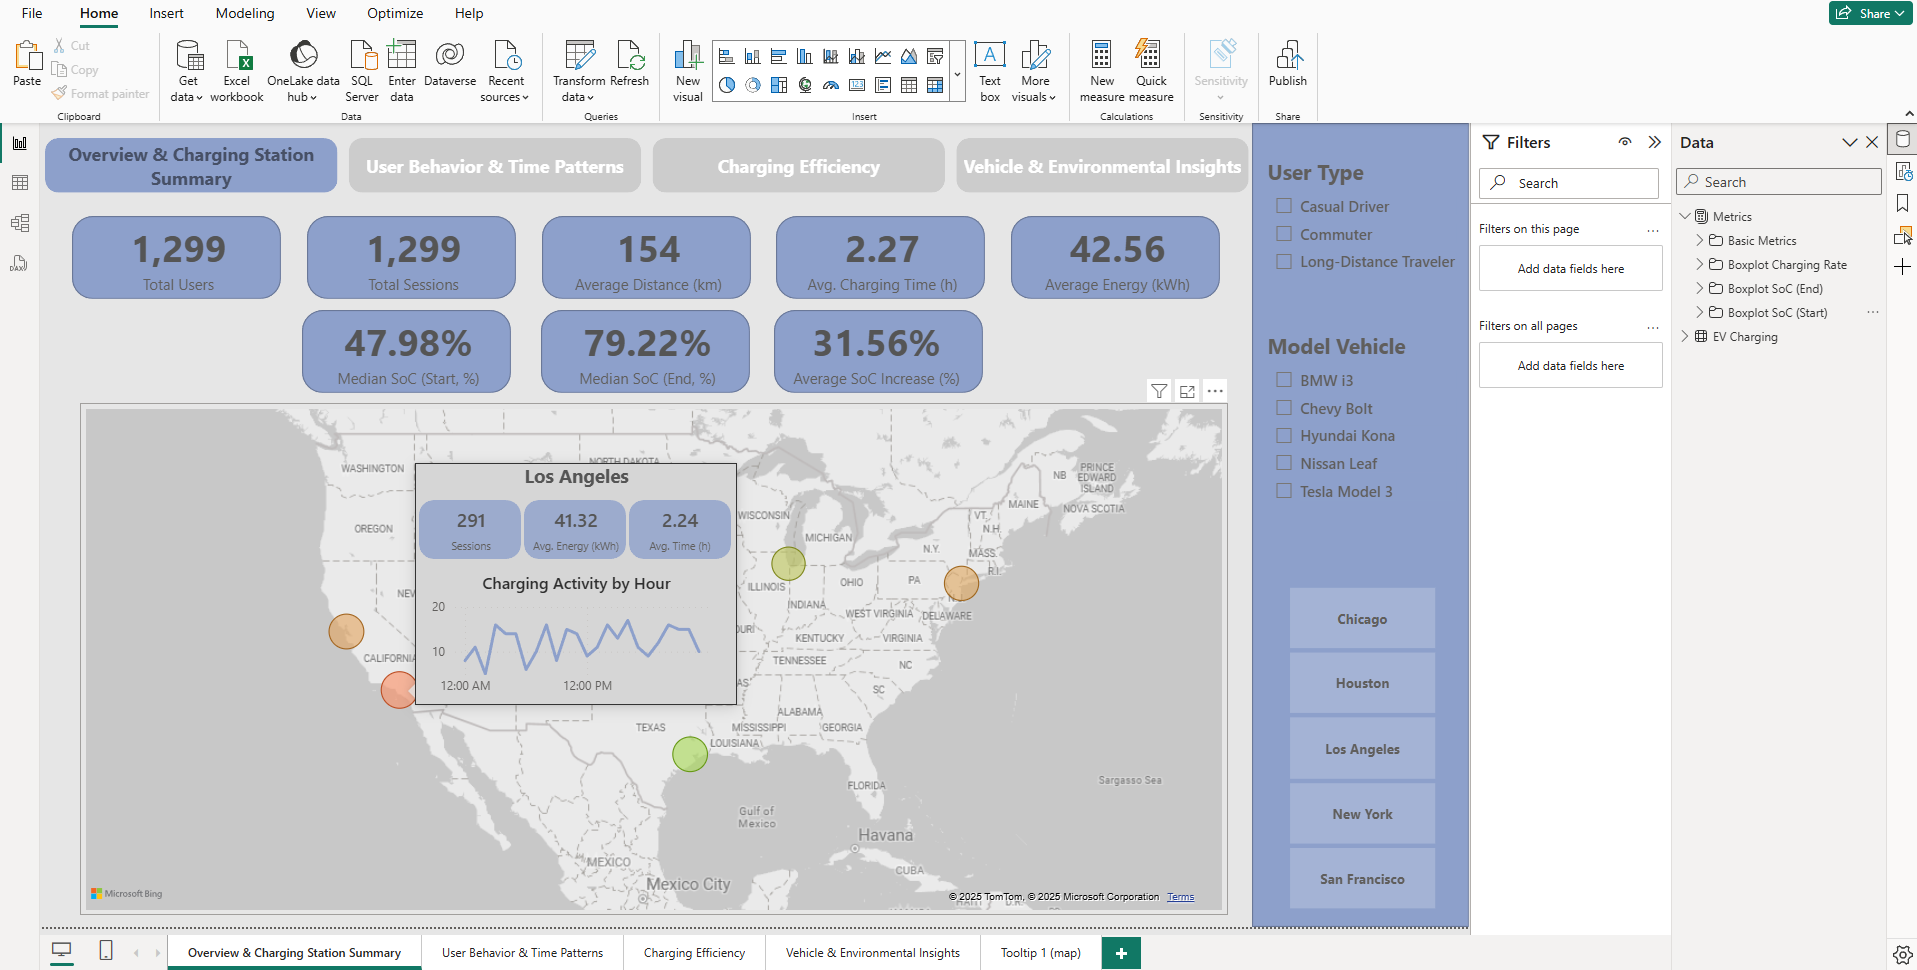

Layout of this report page (visuals, bound fields, positions):
{"tool":"powerbi","page":{"name":"Overview & Charging Station Summary","canvas":[1280,720],"ordinal":0},"visuals":[{"type":"group","id":"g1","title":"Total Users KPI","box":[28.7,83.3,187.2,74.3],"z":0,"group":"g2"},{"type":"shape","box":[28.7,83.3,187.2,74.3],"z":0,"group":"g1"},{"type":"shape","box":[239,83.3,187.2,74.3],"z":0,"group":"g3"},{"type":"shape","box":[449.2,83.3,187.2,74.3],"z":0,"group":"g4"},{"type":"shape","box":[659.5,83.3,187.2,74.3],"z":0,"group":"g6"},{"type":"shape","box":[869.7,83.3,187.2,74.3],"z":0,"group":"g8"},{"type":"shape","box":[657.4,167.6,187.2,74.3],"z":0,"group":"g10"},{"type":"shape","box":[234.6,167.7,187.2,74.3],"z":0,"group":"g7"},{"type":"shape","box":[448.8,167.7,187.2,74.3],"z":0,"group":"g9"},{"type":"map","title":"Page 1 Charging Map","fields":{"Y":["EV Charging.City Latitude"],"X":["EV Charging.City Longitude"],"Size":["Metrics.Sessions Count"]},"box":[35.8,250.7,1028.1,458.5],"z":0},{"type":"group","id":"g2","title":"Page 1 KPI (User Behavior))","box":[28.7,83.3,1028.1,74.3],"z":1000},{"type":"card","fields":{"Values":["EV charging patterns.Users Count"]},"box":[40.3,83.3,167.5,74.3],"z":1000,"group":"g1"},{"type":"group","id":"g3","title":"Total Sessions KPI","box":[239,83.3,187.2,74.3],"z":1000,"group":"g2"},{"type":"card","fields":{"Values":["Metrics.Sessions Count"]},"box":[250.6,83.3,167.5,74.3],"z":1000,"group":"g3"},{"type":"card","fields":{"Values":["Metrics.Avg Distance Driven"]},"box":[460.8,83.3,167.5,74.3],"z":1000,"group":"g4"},{"type":"card","fields":{"Values":["Metrics.Average Charging Duration"]},"box":[671.1,83.3,167.5,74.3],"z":1000,"group":"g6"},{"type":"card","fields":{"Values":["Metrics.Avg Energy"]},"box":[881.3,83.3,167.5,74.3],"z":1000,"group":"g8"},{"type":"card","fields":{"Values":["Metrics.Avg SoC Difference"]},"box":[665.1,167.6,167.5,74.3],"z":1000,"group":"g10"},{"type":"card","fields":{"Values":["Metrics.Median Starting SoC"]},"box":[246.2,167.7,167.5,74.3],"z":1000,"group":"g7"},{"type":"card","fields":{"Values":["Metrics.Median Ending SoC"]},"box":[460.4,167.7,167.5,74.3],"z":1000,"group":"g9"},{"type":"group","id":"g4","title":"Avg Distance KPI","box":[449.2,83.3,187.2,74.3],"z":2000,"group":"g2"},{"type":"group","id":"g5","title":"Page 1 KPI (SoC)","box":[234.6,167.6,610,74.5],"z":2000},{"type":"shape","box":[1085.4,0,194.3,720],"z":3000},{"type":"group","id":"g6","title":"Avg Duration KPI","box":[659.5,83.3,187.2,74.3],"z":3000,"group":"g2"},{"type":"group","id":"g7","title":"Median SoC Start KPI","box":[234.6,167.7,187.2,74.3],"z":3000,"group":"g5"},{"type":"group","id":"g8","title":"Avg Energy KPI","box":[869.7,83.3,187.2,74.3],"z":4000,"group":"g2"},{"type":"group","id":"g9","title":"Median SoC End KPI","box":[448.8,167.7,187.2,74.3],"z":4000,"group":"g5"},{"type":"slicer","fields":{"Values":["EV Charging.Charging Station Location"]},"box":[1093,409,180,301],"z":4000},{"type":"group","id":"g10","title":"SoC Increase KPI","box":[657.4,167.6,187.2,74.3],"z":5000,"group":"g5"},{"type":"slicer","title":"Model Vehicle","fields":{"Values":["EV Charging.Vehicle Model"]},"box":[1094,187,179,199],"z":5000},{"type":"slicer","title":"User Type","fields":{"Values":["EV Charging.User Type"]},"box":[1094,31,179,144],"z":6000},{"type":"pageNavigator","box":[4.5,13.4,1079.1,49.3],"z":7000}]}

Visuals, with their boxes on the page's 1280x720 design canvas (x1, y1, x2, y2). These are canvas units, not pixel positions in the 1917x970 screenshot, which may show the page scaled, cropped or inside an application window:
"Total Users KPI" group: bbox=[29, 83, 216, 158]
shape: bbox=[29, 83, 216, 158]
shape: bbox=[239, 83, 426, 158]
shape: bbox=[449, 83, 636, 158]
shape: bbox=[660, 83, 847, 158]
shape: bbox=[870, 83, 1057, 158]
shape: bbox=[657, 168, 845, 242]
shape: bbox=[235, 168, 422, 242]
shape: bbox=[449, 168, 636, 242]
"Page 1 Charging Map" map: bbox=[36, 251, 1064, 709]
"Page 1 KPI (User Behavior))" group: bbox=[29, 83, 1057, 158]
card - EV charging patterns.Users Count: bbox=[40, 83, 208, 158]
"Total Sessions KPI" group: bbox=[239, 83, 426, 158]
card - Metrics.Sessions Count: bbox=[251, 83, 418, 158]
card - Metrics.Avg Distance Driven: bbox=[461, 83, 628, 158]
card - Metrics.Average Charging Duration: bbox=[671, 83, 839, 158]
card - Metrics.Avg Energy: bbox=[881, 83, 1049, 158]
card - Metrics.Avg SoC Difference: bbox=[665, 168, 833, 242]
card - Metrics.Median Starting SoC: bbox=[246, 168, 414, 242]
card - Metrics.Median Ending SoC: bbox=[460, 168, 628, 242]
"Avg Distance KPI" group: bbox=[449, 83, 636, 158]
"Page 1 KPI (SoC)" group: bbox=[235, 168, 845, 242]
shape: bbox=[1085, 0, 1280, 720]
"Avg Duration KPI" group: bbox=[660, 83, 847, 158]
"Median SoC Start KPI" group: bbox=[235, 168, 422, 242]
"Avg Energy KPI" group: bbox=[870, 83, 1057, 158]
"Median SoC End KPI" group: bbox=[449, 168, 636, 242]
slicer - EV Charging.Charging Station Location: bbox=[1093, 409, 1273, 710]
"SoC Increase KPI" group: bbox=[657, 168, 845, 242]
"Model Vehicle" slicer: bbox=[1094, 187, 1273, 386]
"User Type" slicer: bbox=[1094, 31, 1273, 175]
pageNavigator: bbox=[4, 13, 1084, 63]
